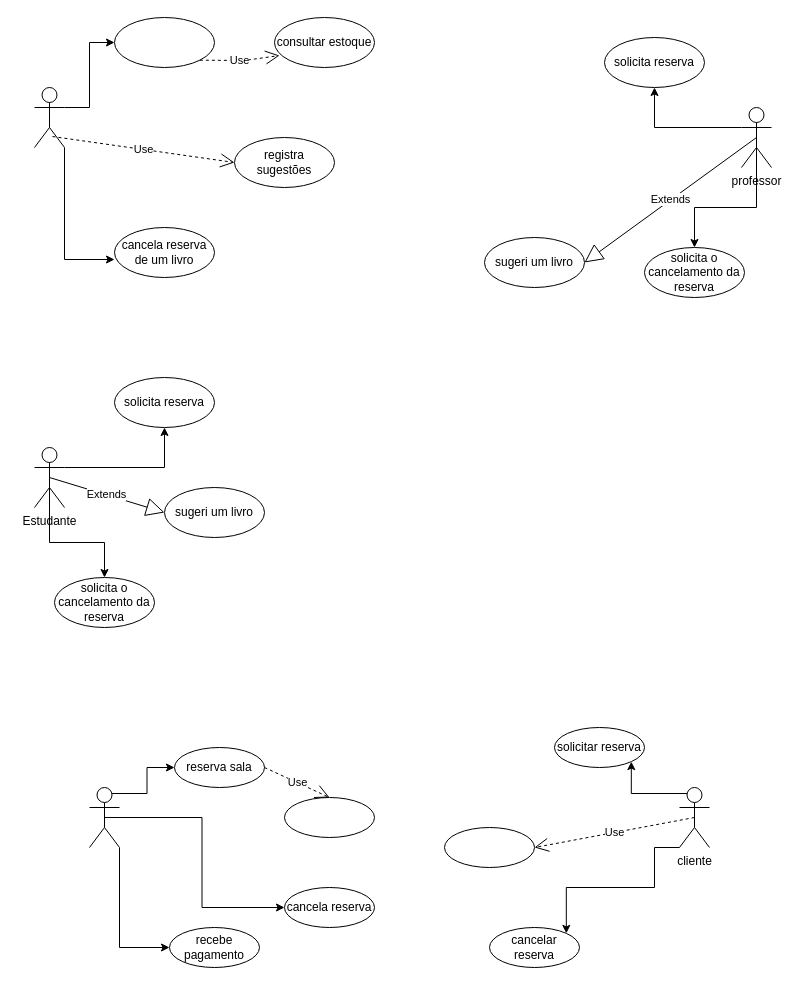
This 799x985 diagram has some shape labels left out. The box of each missing label's shape, as (x1, y1, x2, y2) in pixels:
atendente: (88, 786, 120, 848)
Bibliotecaria: (34, 86, 64, 148)
realizar pagamento: (444, 826, 534, 868)
reserva um livro: (114, 16, 214, 68)
ve as reservas já feitas: (284, 796, 374, 838)
